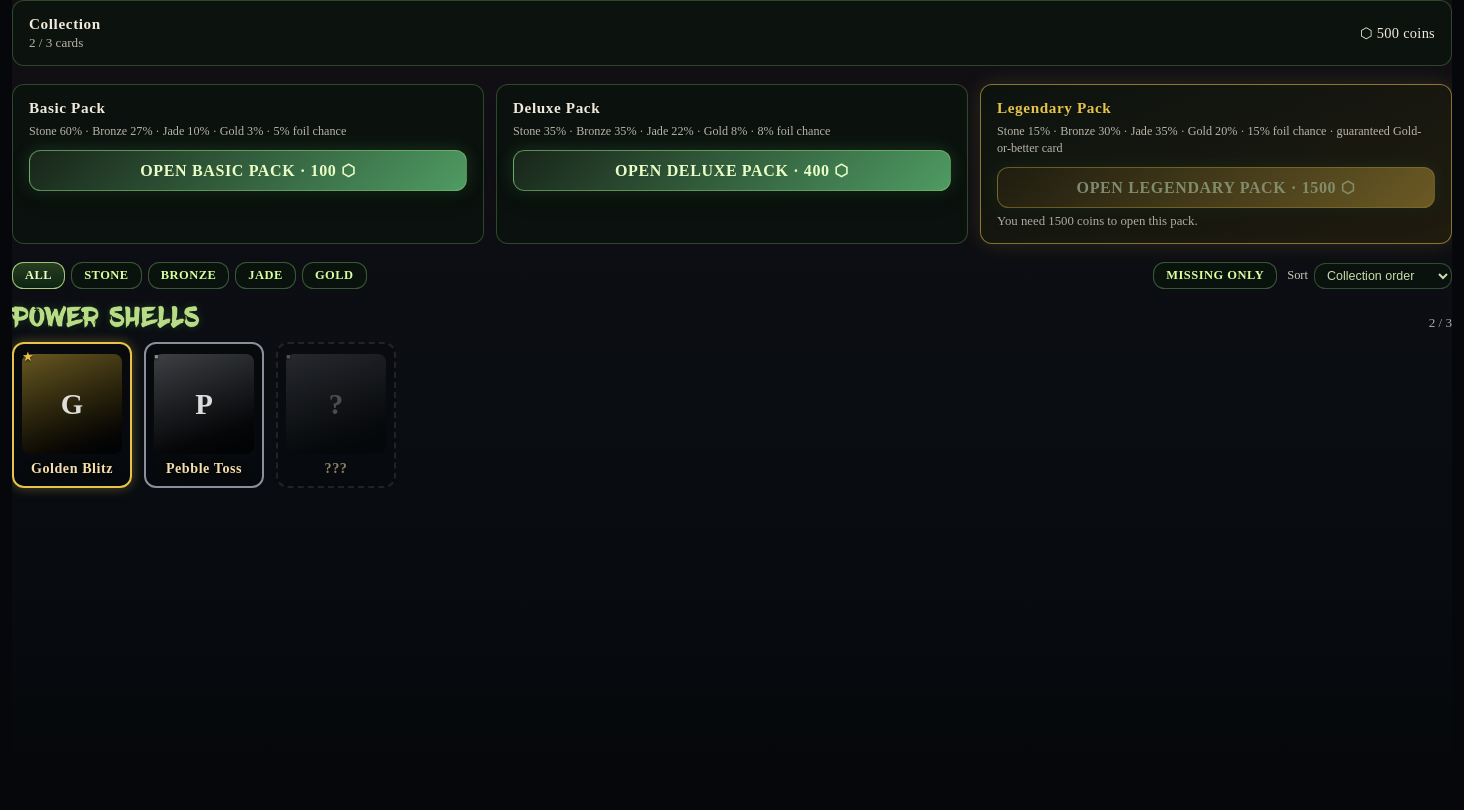
Scenario: ShellCardsModal pack-open error handling › should surface the server's own message when the purchase itself fails
expect the text "Golden Blitz" is shown: met, box [31, 460, 113, 476]
Click the button "Open Basic Pack · 100 ⬡": (248, 170) [29, 150, 467, 191]
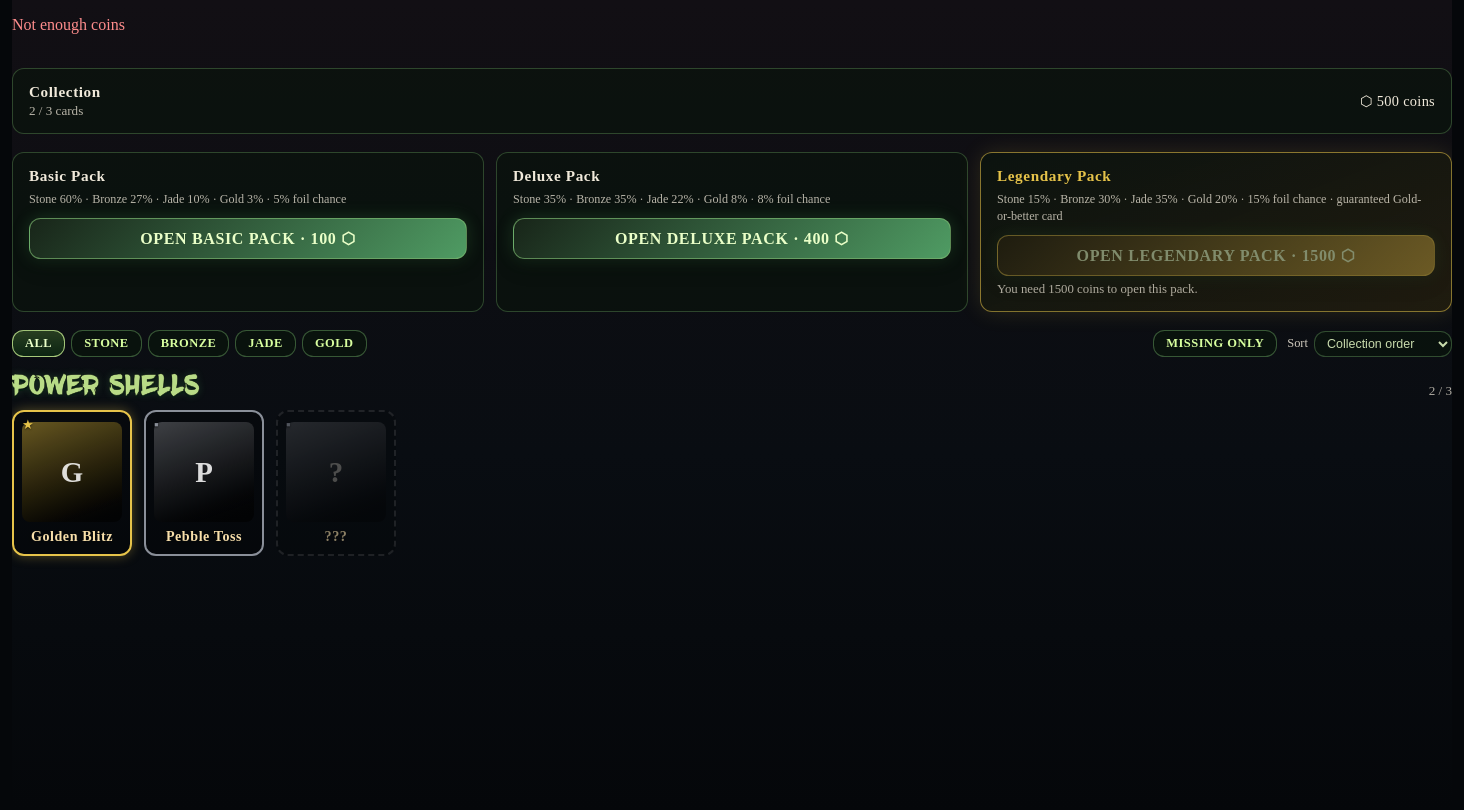
expect the text "Not enough coins" is shown: met, box [12, 16, 125, 33]
